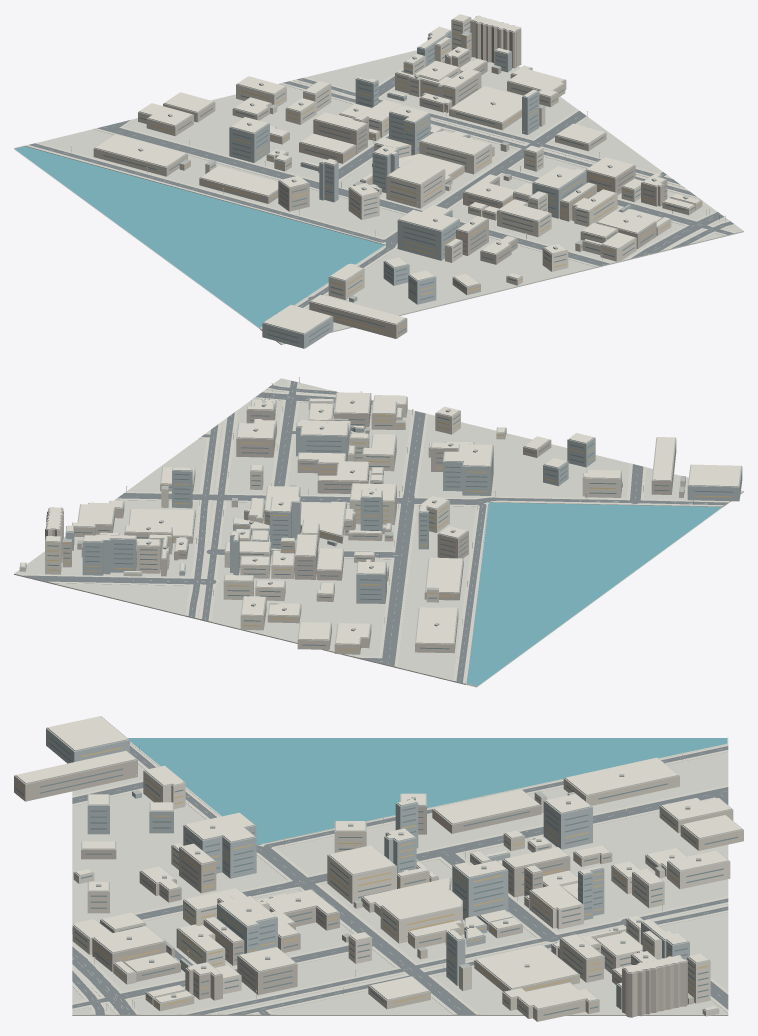
3 views of the same model, one above another, from view 1: azimuth 30°, elevation 25°; view 2: azimuth 150°, elevation 25°; view 3: azimuth 270°, elevation 25° (orthographic). The views are drawn at different scales.
Parts seen in each view (by area): view 1: city; view 2: city; view 3: city.
Boxes of the visible parts, left/top/right/bottom form: city: left=14, top=14, right=743, bottom=348; city: left=14, top=377, right=743, bottom=687; city: left=14, top=716, right=743, bottom=1021.
Bounding box in the file's own units: 521 × 40.95 × 557.
